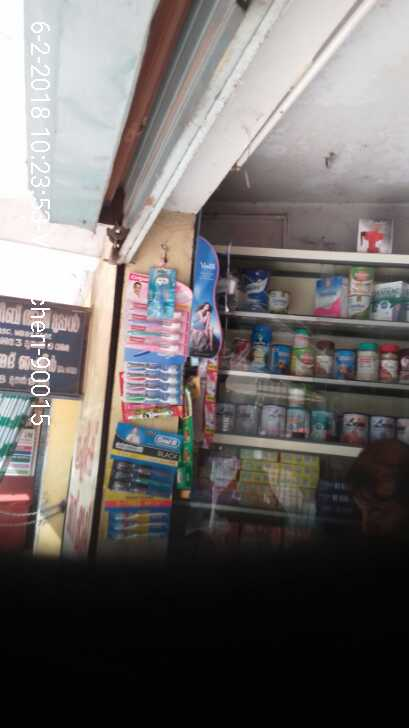venus: (137, 266, 182, 324)
